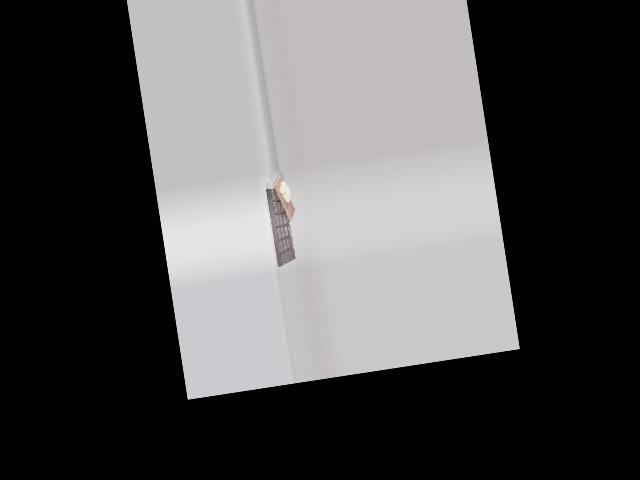chocolate: (262, 180, 299, 267)
